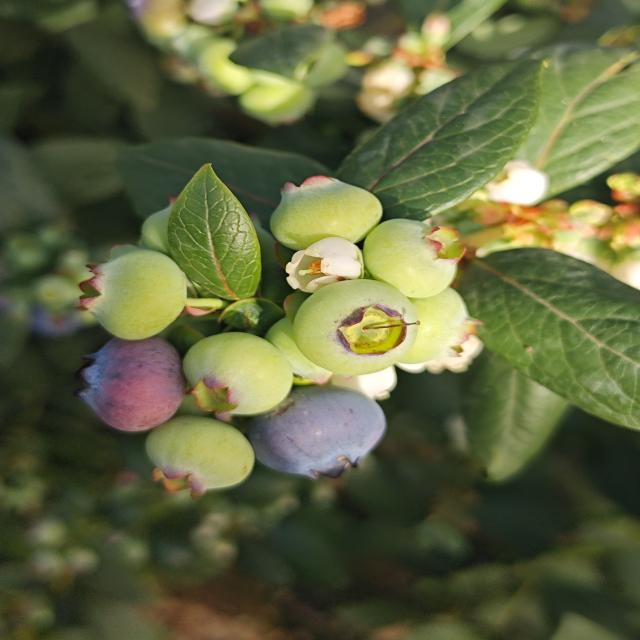ripe: (258, 387, 386, 479), (84, 334, 190, 427)
